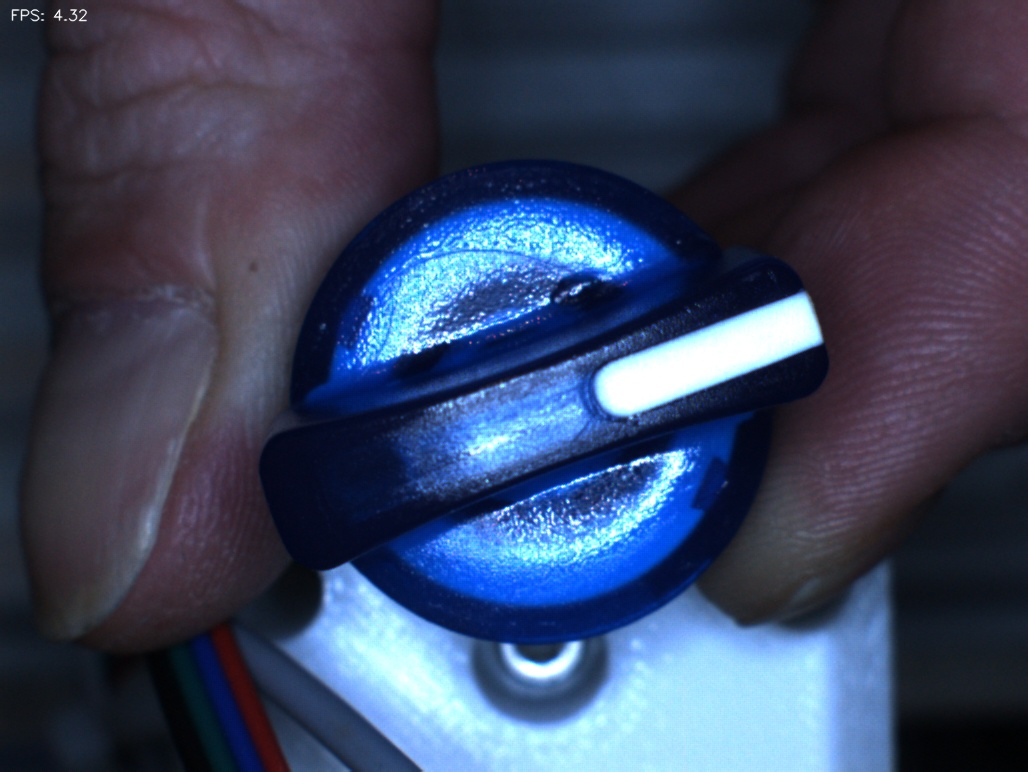Choc: (536, 252, 609, 325)
